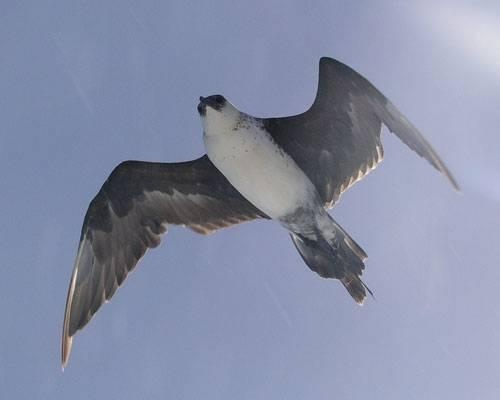bird: (57, 54, 464, 371)
